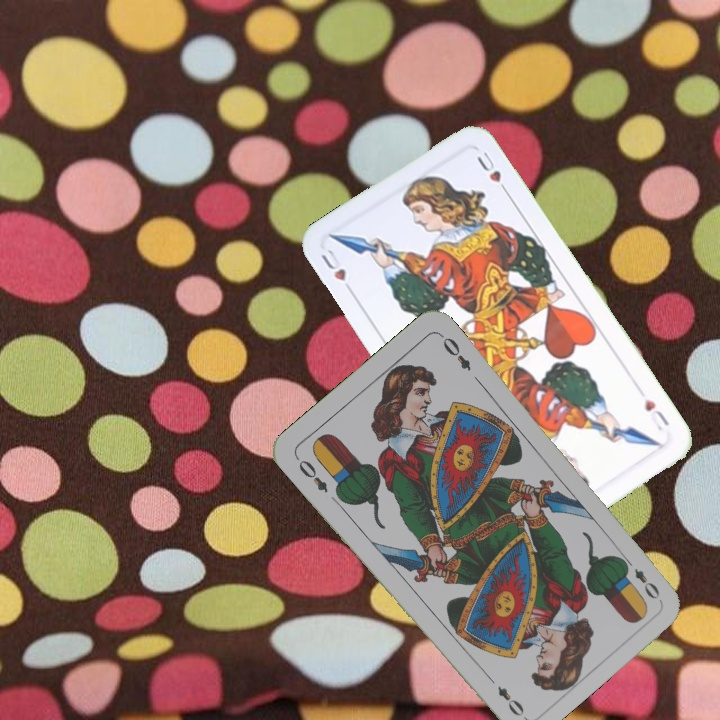EO: (619, 553, 663, 602), (291, 453, 331, 496)
HU: (316, 245, 357, 298), (640, 394, 672, 434)
